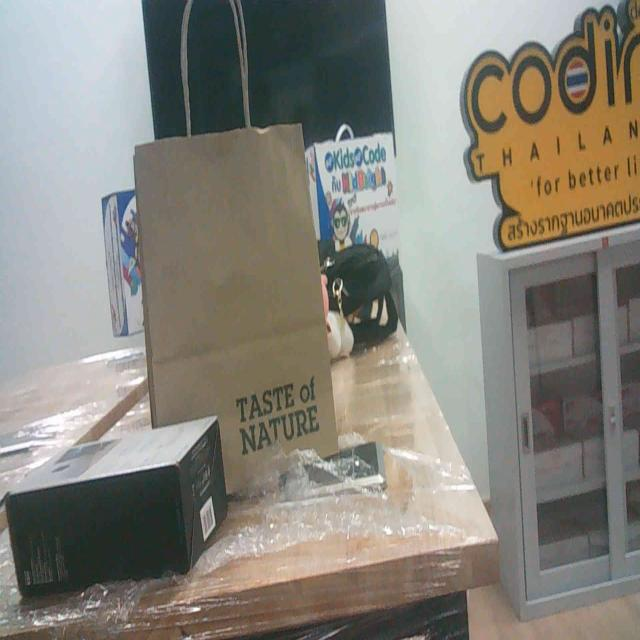bag: (129, 100, 338, 490)
